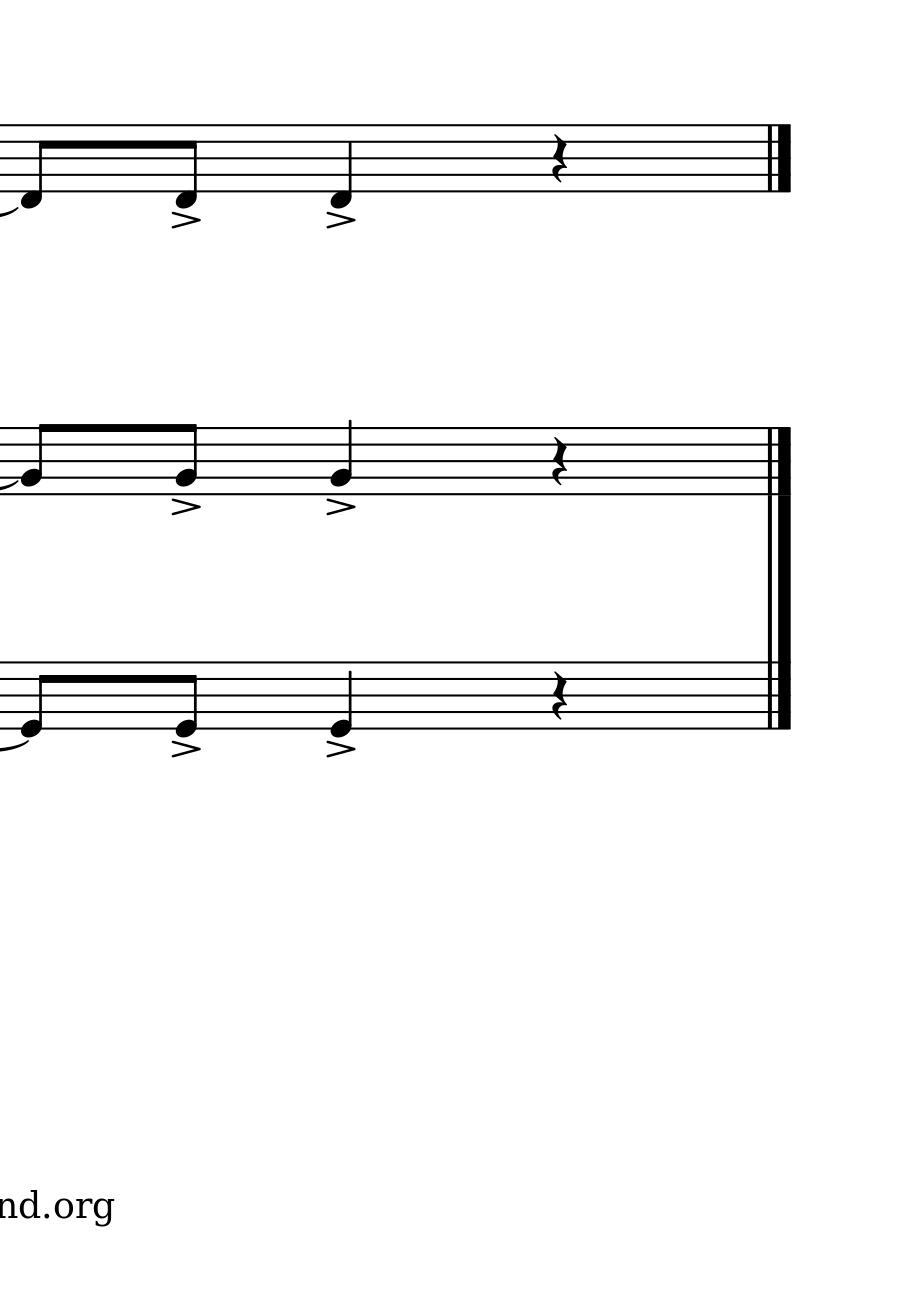4_-1: (328, 122, 354, 209)
4_0: (328, 659, 354, 739)
4_2: (329, 417, 354, 497)
8_-1: (17, 122, 50, 211), (174, 122, 198, 207)
8_0: (18, 659, 51, 739), (175, 660, 199, 738)
8_2: (19, 422, 51, 496), (174, 421, 199, 497)
Accent_above: (324, 738, 357, 759), (169, 738, 203, 758), (169, 211, 203, 230), (169, 497, 203, 516), (323, 497, 357, 515), (323, 211, 357, 228)
Final_barline: (760, 426, 793, 495), (760, 659, 792, 729), (763, 122, 793, 193)
Rests4: (549, 132, 570, 185), (549, 669, 570, 722), (550, 435, 569, 488)
